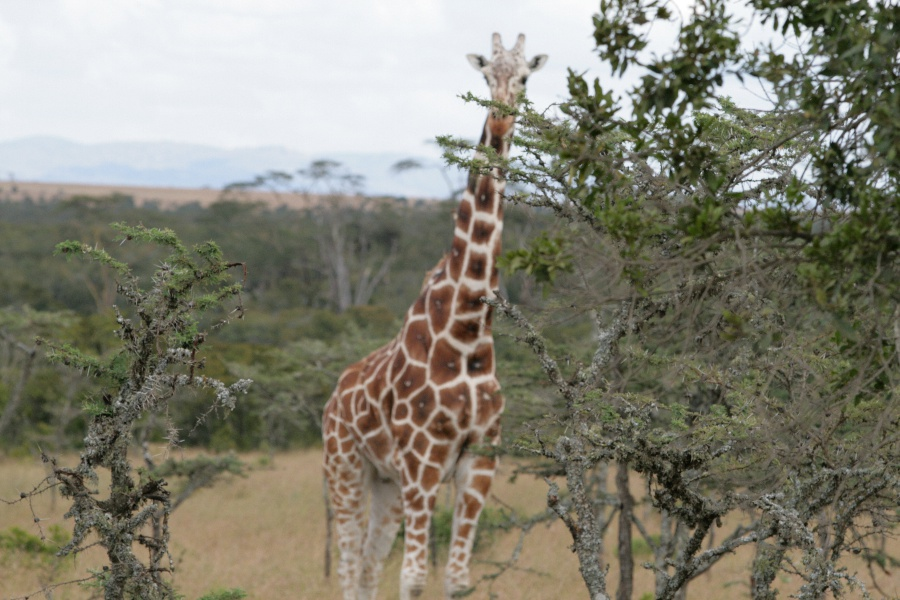giraffe: (315, 24, 558, 599)
